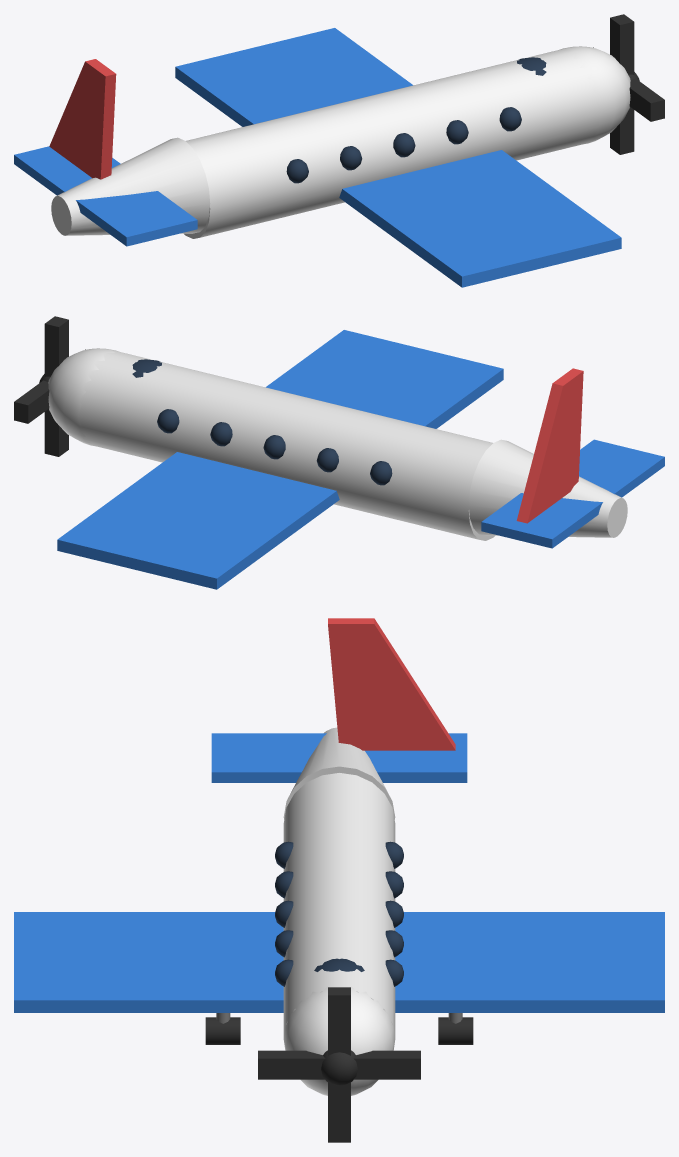
The model's file is airplane.glb.
The picture shows the model from 3 angles, top to bottom: view 1: azimuth 30°, elevation 25°; view 2: azimuth 150°, elevation 25°; view 3: azimuth 270°, elevation 25°; orthographic projection. The views are drawn at different scales.
Visible parts, largest first — view 1: airplane; view 2: airplane; view 3: airplane.
Boxes of the visible parts, <box> form: airplane: <box>14,14,664,287</box>; airplane: <box>14,316,664,589</box>; airplane: <box>14,618,664,1142</box>.
Size of the model in its own units: 3.25 by 1.19 by 2.8.
